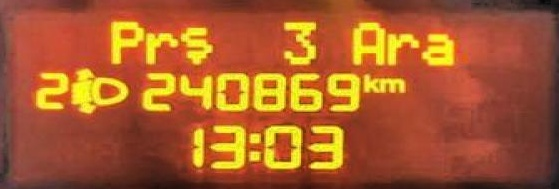0: (261, 121, 302, 170), (212, 69, 249, 111)
1: (185, 121, 204, 169)
2: (30, 69, 69, 110), (137, 70, 176, 111)
3: (275, 16, 319, 65), (207, 120, 246, 170), (304, 123, 345, 170)
4: (176, 70, 212, 109)
6: (287, 70, 322, 113)
8: (251, 69, 286, 113)
9: (324, 69, 360, 113)
X: (347, 18, 386, 67), (104, 16, 142, 65), (179, 23, 214, 64), (140, 28, 179, 64), (419, 29, 455, 66), (384, 29, 417, 65), (377, 75, 406, 92), (246, 129, 261, 160), (361, 70, 377, 93)
